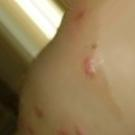Fleas: (83, 57, 96, 78), (32, 104, 47, 119), (74, 11, 84, 20), (75, 126, 85, 134), (57, 128, 66, 134)
